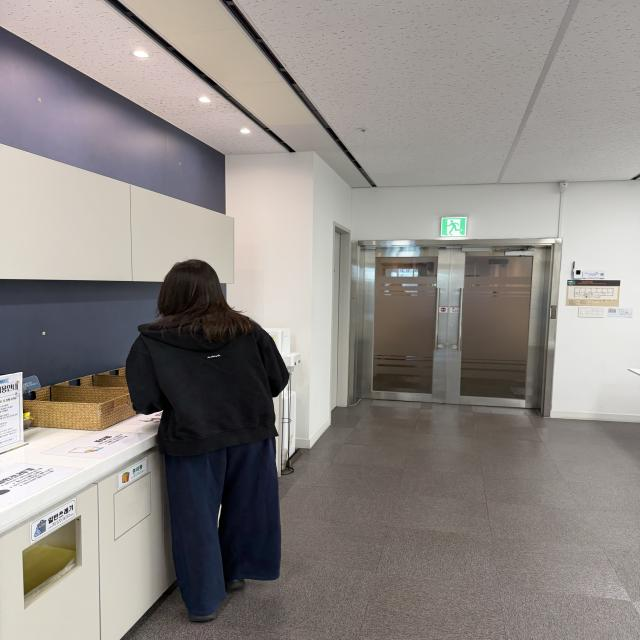rear_door: (355, 247, 554, 409)
